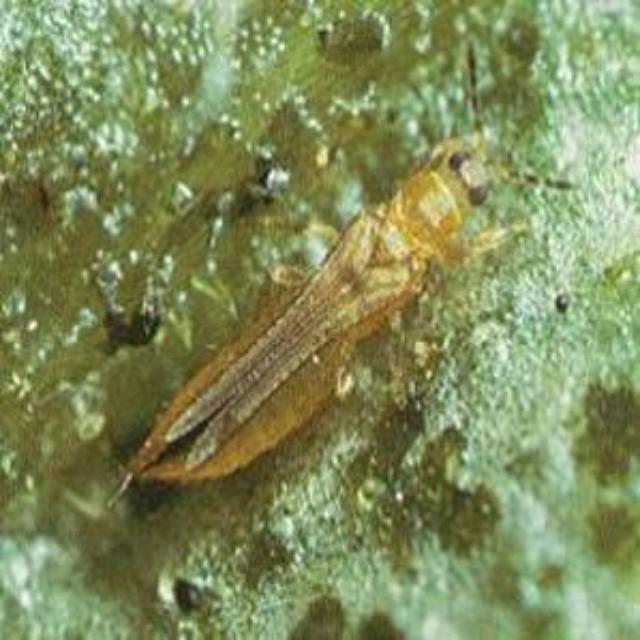melon thrips: (82, 80, 576, 542)
